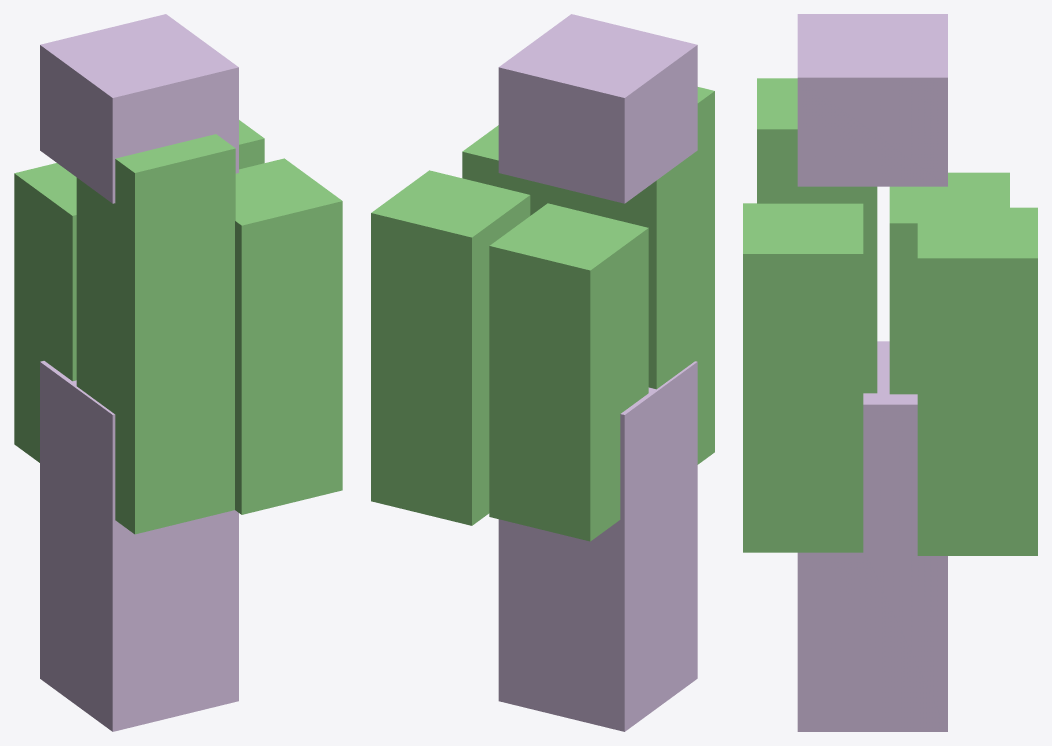
Rendered from Item_Herb_AMF_Snoutsage_Bundle3.glb.
3 views of the same model, side by side, from view 1: azimuth 30°, elevation 25°; view 2: azimuth 150°, elevation 25°; view 3: azimuth 270°, elevation 25° (orthographic). The views are drawn at different scales.
Parts seen in each view (by area): view 1: Item_Herb_AMF_Snoutsage_Bundle3; view 2: Item_Herb_AMF_Snoutsage_Bundle3; view 3: Item_Herb_AMF_Snoutsage_Bundle3.
Boxes of the visible parts, <box> form: Item_Herb_AMF_Snoutsage_Bundle3: <box>14,14,342,731</box>; Item_Herb_AMF_Snoutsage_Bundle3: <box>371,14,714,731</box>; Item_Herb_AMF_Snoutsage_Bundle3: <box>743,14,1037,731</box>.
Size of the model in its own units: 0.0833 by 0.24 by 0.098.
